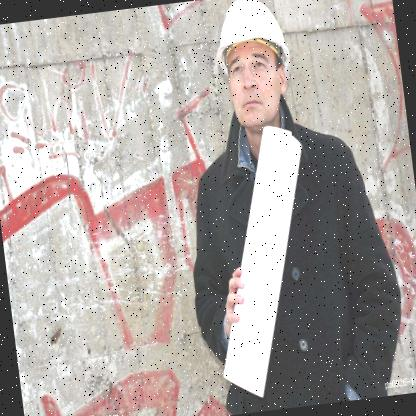capacete: (206, 0, 301, 132)
sem_colete_refletivo: (168, 101, 414, 416)
